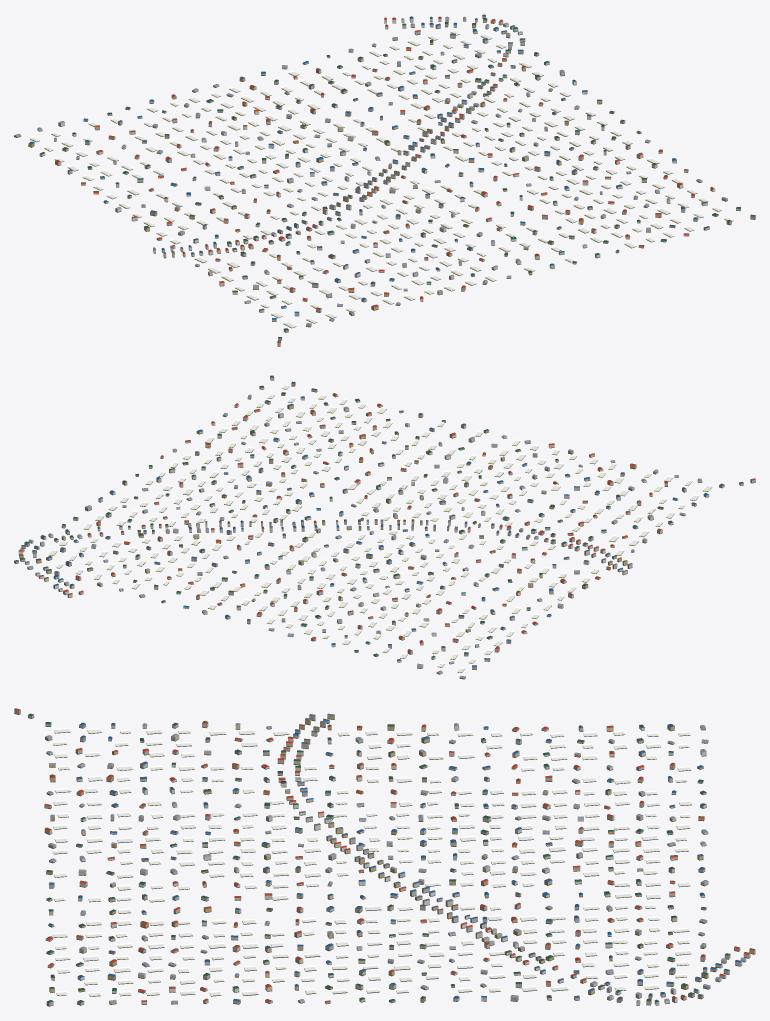
The model's file is buildings_T_W07_N00.glb.
The picture shows the model from 3 angles, top to bottom: view 1: azimuth 30°, elevation 25°; view 2: azimuth 150°, elevation 25°; view 3: azimuth 270°, elevation 25°; orthographic projection. The views are drawn at different scales.
Parts seen in each view (by area): view 1: T_W07_N00_roofs_agri_greenhouse_arch, T_W07_N00_slope_seating_foundations, T_W07_N00_walls_wall_pastel_sand_gray, T_W07_N00_walls_wall_modern_warm_white, T_W07_N00_walls_wall_french_ochre_villa, T_W07_N00_walls_wall_dalat_cream_stucco, T_W07_N00_roofs_roof_terracotta_gable, T_W07_N00_roofs_roof_highland_blue_gable, T_W07_N00_roofs_roof_zinc_silver_gable, T_W07_N00_roofs_roof_pine_green_hip; view 2: T_W07_N00_roofs_agri_greenhouse_arch, T_W07_N00_slope_seating_foundations, T_W07_N00_walls_wall_pastel_sand_gray, T_W07_N00_walls_wall_dalat_cream_stucco, T_W07_N00_walls_wall_modern_warm_white, T_W07_N00_walls_wall_french_ochre_villa, T_W07_N00_roofs_roof_terracotta_gable, T_W07_N00_roofs_roof_highland_blue_gable, T_W07_N00_roofs_roof_zinc_silver_gable, T_W07_N00_roofs_roof_pine_green_hip; view 3: T_W07_N00_roofs_agri_greenhouse_arch, T_W07_N00_slope_seating_foundations, T_W07_N00_walls_wall_pastel_sand_gray, T_W07_N00_walls_wall_dalat_cream_stucco, T_W07_N00_walls_wall_french_ochre_villa, T_W07_N00_walls_wall_modern_warm_white, T_W07_N00_roofs_roof_terracotta_gable, T_W07_N00_roofs_roof_highland_blue_gable, T_W07_N00_roofs_roof_zinc_silver_gable, T_W07_N00_roofs_roof_pine_green_hip.
Part boxes in pixels (x1=…): T_W07_N00_roofs_agri_greenhouse_arch: x1=30, y1=30, x2=733, y2=327; T_W07_N00_slope_seating_foundations: x1=14, y1=18, x2=755, y2=346; T_W07_N00_walls_wall_pastel_sand_gray: x1=62, y1=19, x2=755, y2=345; T_W07_N00_walls_wall_modern_warm_white: x1=39, y1=18, x2=715, y2=320; T_W07_N00_walls_wall_french_ochre_villa: x1=14, y1=16, x2=731, y2=315; T_W07_N00_walls_wall_dalat_cream_stucco: x1=37, y1=19, x2=740, y2=340; T_W07_N00_roofs_roof_terracotta_gable: x1=55, y1=16, x2=714, y2=343; T_W07_N00_roofs_roof_highland_blue_gable: x1=29, y1=14, x2=698, y2=319; T_W07_N00_roofs_roof_zinc_silver_gable: x1=14, y1=16, x2=726, y2=324; T_W07_N00_roofs_roof_pine_green_hip: x1=40, y1=16, x2=755, y2=338; T_W07_N00_roofs_agri_greenhouse_arch: x1=48, y1=384, x2=712, y2=672; T_W07_N00_slope_seating_foundations: x1=14, y1=379, x2=755, y2=679; T_W07_N00_walls_wall_pastel_sand_gray: x1=20, y1=376, x2=755, y2=656; T_W07_N00_walls_wall_dalat_cream_stucco: x1=21, y1=387, x2=743, y2=674; T_W07_N00_walls_wall_modern_warm_white: x1=18, y1=398, x2=685, y2=668; T_W07_N00_walls_wall_french_ochre_villa: x1=14, y1=382, x2=663, y2=678; T_W07_N00_roofs_roof_terracotta_gable: x1=18, y1=393, x2=755, y2=651; T_W07_N00_roofs_roof_highland_blue_gable: x1=15, y1=396, x2=708, y2=666; T_W07_N00_roofs_roof_zinc_silver_gable: x1=19, y1=394, x2=701, y2=677; T_W07_N00_roofs_roof_pine_green_hip: x1=20, y1=375, x2=743, y2=659; T_W07_N00_roofs_agri_greenhouse_arch: x1=52, y1=727, x2=691, y2=996; T_W07_N00_slope_seating_foundations: x1=14, y1=713, x2=755, y2=1006; T_W07_N00_walls_wall_pastel_sand_gray: x1=14, y1=709, x2=740, y2=1006; T_W07_N00_walls_wall_dalat_cream_stucco: x1=28, y1=715, x2=755, y2=1004; T_W07_N00_walls_wall_french_ochre_villa: x1=46, y1=719, x2=708, y2=1004; T_W07_N00_walls_wall_modern_warm_white: x1=46, y1=724, x2=750, y2=1004; T_W07_N00_roofs_roof_terracotta_gable: x1=14, y1=708, x2=754, y2=1002; T_W07_N00_roofs_roof_highland_blue_gable: x1=48, y1=718, x2=741, y2=1002; T_W07_N00_roofs_roof_zinc_silver_gable: x1=45, y1=723, x2=745, y2=1002; T_W07_N00_roofs_roof_pine_green_hip: x1=28, y1=713, x2=730, y2=1002.
Size of the model in its own units: 1857 by 37.52 by 1959.
